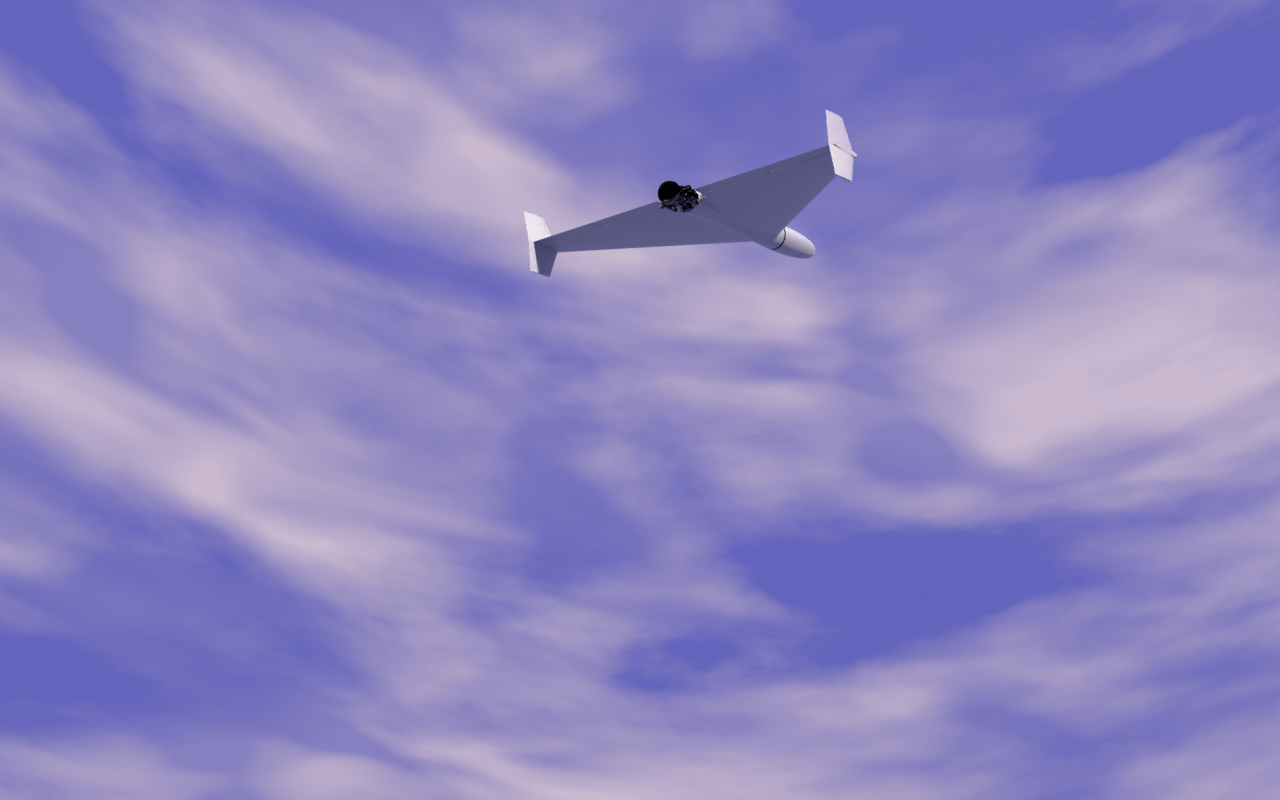shahed: (524, 110, 859, 279)
